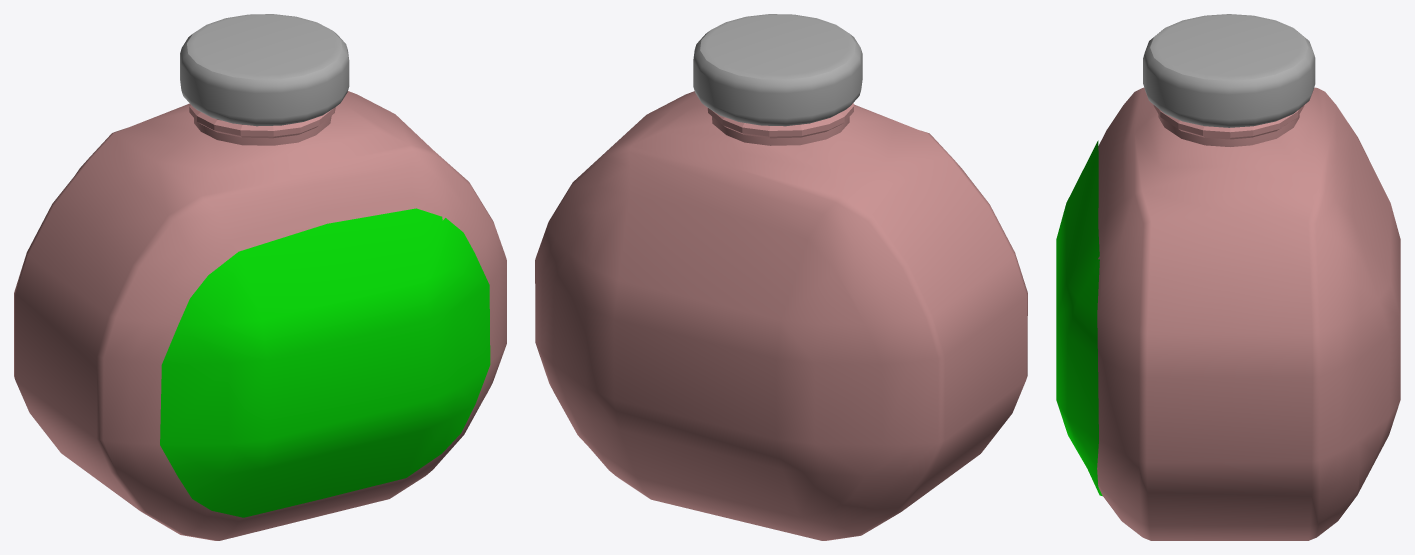
The model's file is S1_L_HoneyCan.fbx.
3 renders of one model, left to right at view 1: azimuth 30°, elevation 25°; view 2: azimuth 150°, elevation 25°; view 3: azimuth 270°, elevation 25°, orthographic.
Parts seen in each view (by area): view 1: S1_HoneyCan; view 2: S1_HoneyCan; view 3: S1_HoneyCan.
Boxes of the visible parts, <box> form: S1_HoneyCan: <box>14,14,506,540</box>; S1_HoneyCan: <box>535,14,1027,540</box>; S1_HoneyCan: <box>1056,14,1400,540</box>.
Size of the model in its own units: 738 by 770 by 532.
